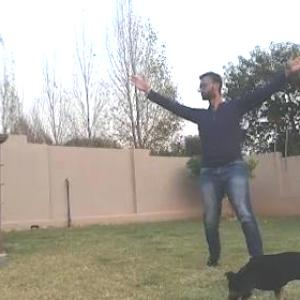takeoff: (122, 48, 299, 271)
